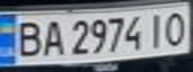2: (66, 16, 90, 56)
4: (124, 11, 148, 52)
7: (106, 15, 127, 53)
9: (87, 16, 109, 55)
A: (39, 17, 66, 57)
B: (9, 18, 45, 57)
I: (142, 10, 169, 49)
O: (160, 8, 190, 47)
